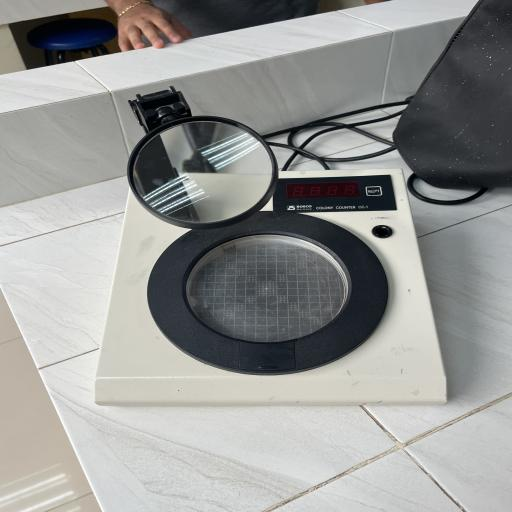Contador_Colonias_CC1: (85, 80, 461, 416)
